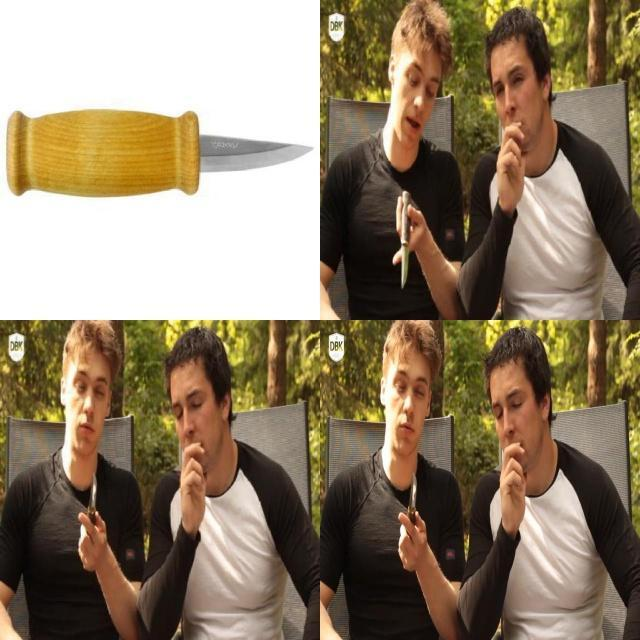-: (159, 101, 313, 195), (73, 464, 107, 571), (393, 464, 427, 571), (392, 184, 422, 298)
